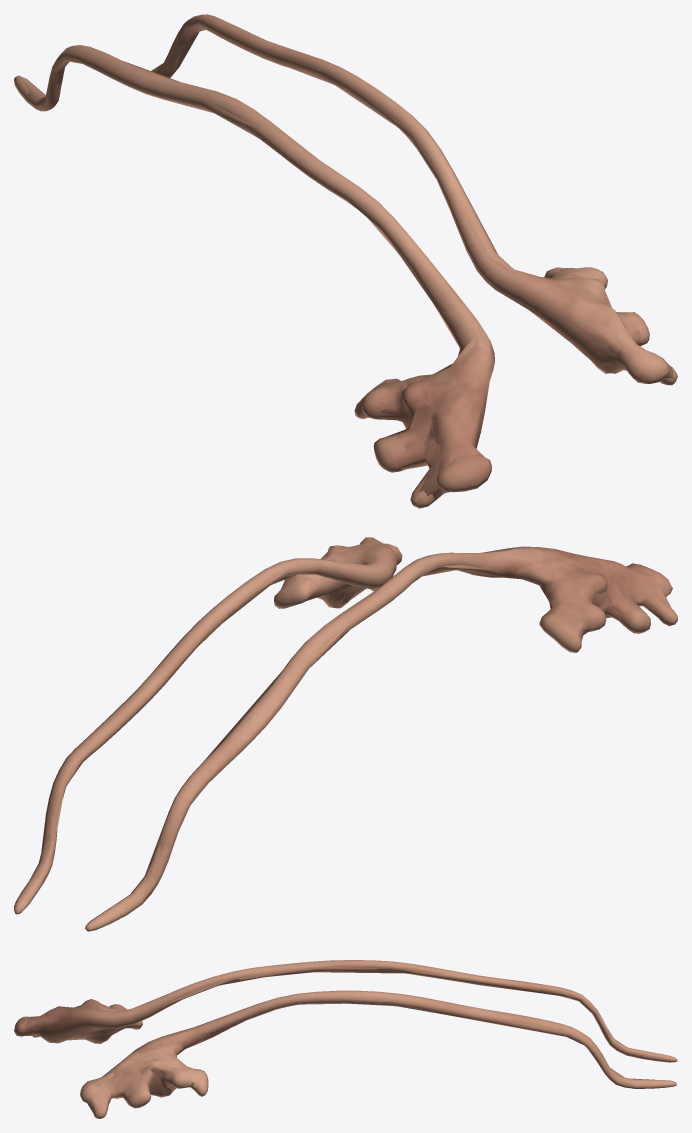
File: Ureters.fbx
3 views of the same model, one above another, from view 1: azimuth 30°, elevation 25°; view 2: azimuth 150°, elevation 25°; view 3: azimuth 270°, elevation 25° (orthographic). The views are drawn at different scales.
Parts seen in each view (by area): view 1: Ureters high, Ureters, Ureters low; view 2: Ureters high, Ureters, Ureters low; view 3: Ureters high, Ureters, Ureters low.
Part boxes in pixels (<box>): Ureters high: <box>14,14,677,508</box>; Ureters: <box>19,19,675,508</box>; Ureters low: <box>36,22,674,497</box>; Ureters high: <box>14,537,677,931</box>; Ureters: <box>14,537,677,929</box>; Ureters low: <box>39,542,671,899</box>; Ureters high: <box>14,960,677,1118</box>; Ureters: <box>14,960,669,1116</box>; Ureters low: <box>24,968,639,1113</box>.
Size of the model in its own units: 3.52 by 1.87 by 10.37.
Materials: 1 (1 with a texture image).
